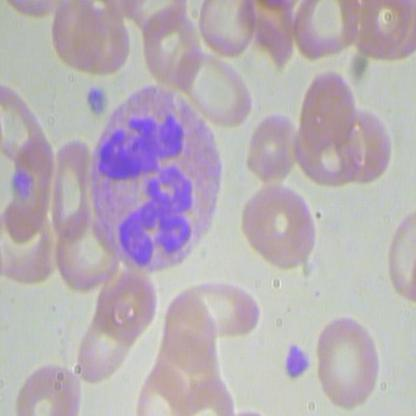Platelets: (274, 340, 313, 386), (79, 83, 108, 124), (10, 172, 35, 204)
RBC: (312, 309, 391, 409), (241, 175, 319, 275), (172, 44, 254, 131), (164, 278, 270, 336), (156, 285, 222, 366), (144, 16, 206, 94), (56, 224, 118, 300), (298, 68, 357, 140), (244, 108, 303, 178), (49, 138, 90, 238), (47, 1, 102, 68)
WBC: (92, 84, 220, 270)
